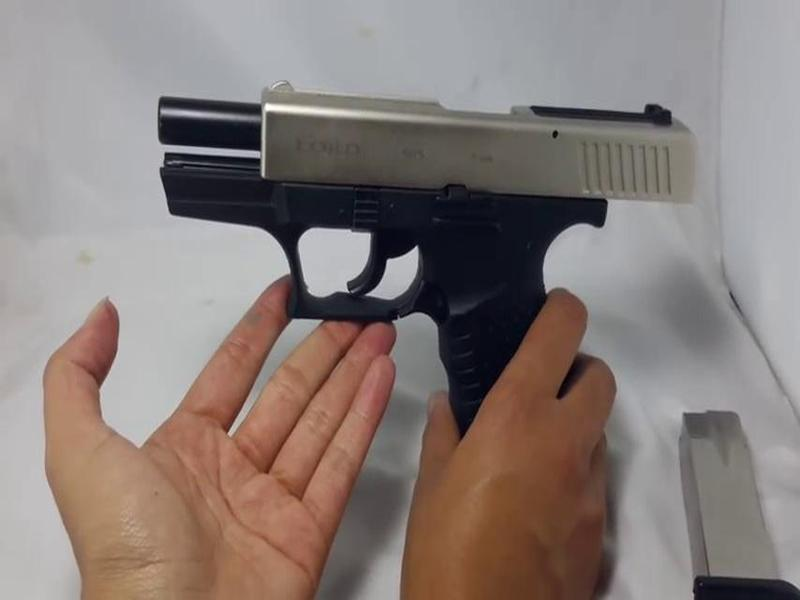Pistola: (127, 87, 708, 447)
